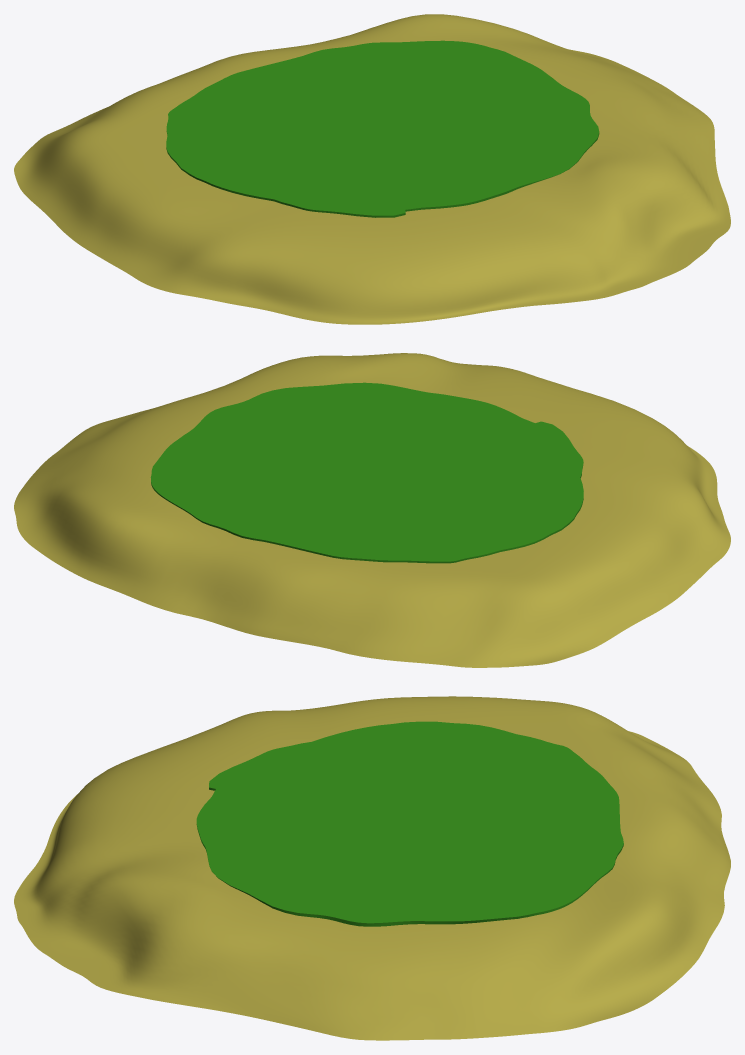
Rendered from ilha central.fbx.
3 renders of one model, top to bottom at view 1: azimuth 30°, elevation 25°; view 2: azimuth 150°, elevation 25°; view 3: azimuth 270°, elevation 25°, orthographic. The views are drawn at different scales.
Visible parts, largest first — view 1: areia.001, central; view 2: areia.001, central; view 3: areia.001, central.
Boxes of the visible parts, x1,y1,x2,y2 form: areia.001: (14, 14, 730, 324); central: (166, 40, 599, 217); areia.001: (14, 353, 730, 667); central: (150, 382, 583, 563); areia.001: (14, 696, 730, 1040); central: (196, 721, 623, 926).
Size of the model in its own units: 2869 by 228 by 2673.
